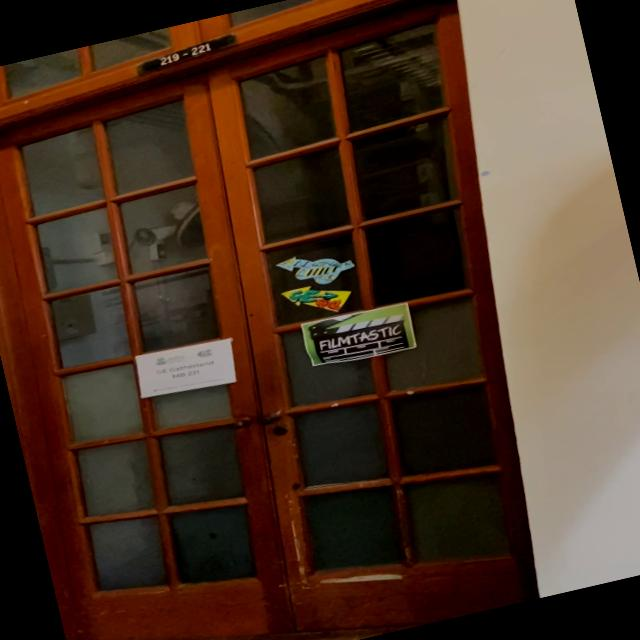room221: (132, 29, 246, 78)
